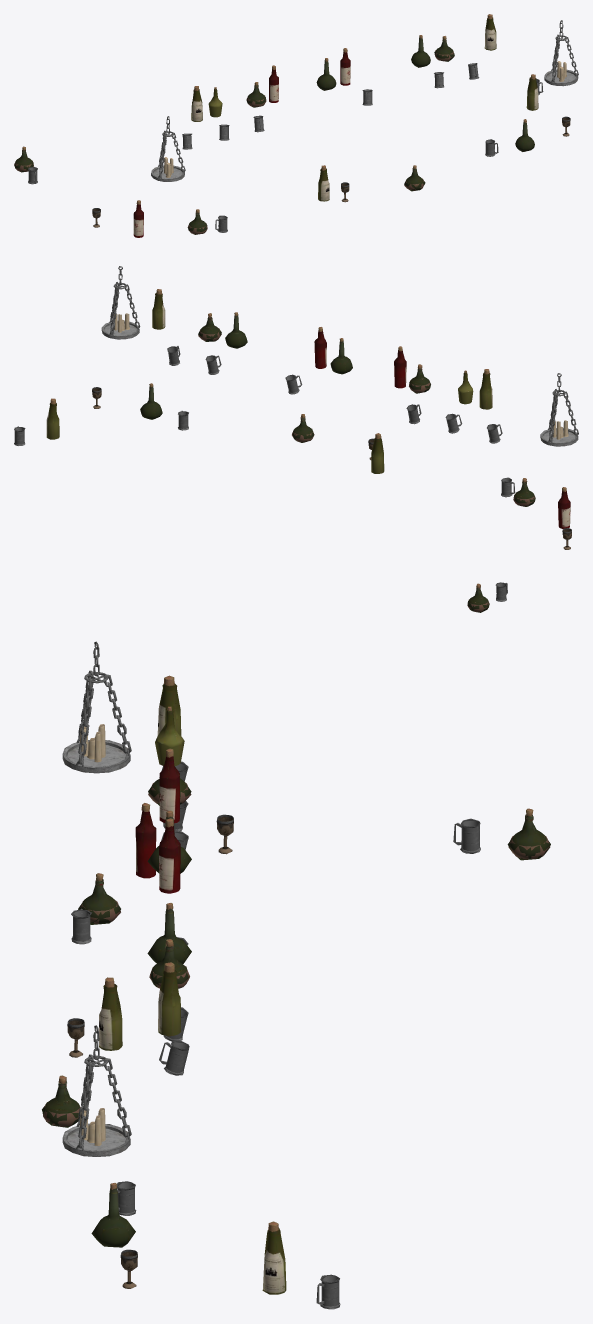
Rendered from SM_bar_03_Props_8a6a81.glb.
3 views of the same model, one above another, from view 1: azimuth 30°, elevation 25°; view 2: azimuth 150°, elevation 25°; view 3: azimuth 270°, elevation 25° (orthographic). The views are drawn at different scales.
Size of the model in its own units: 6.1 by 1.6 by 2.83.
5 materials, 5 textured.
